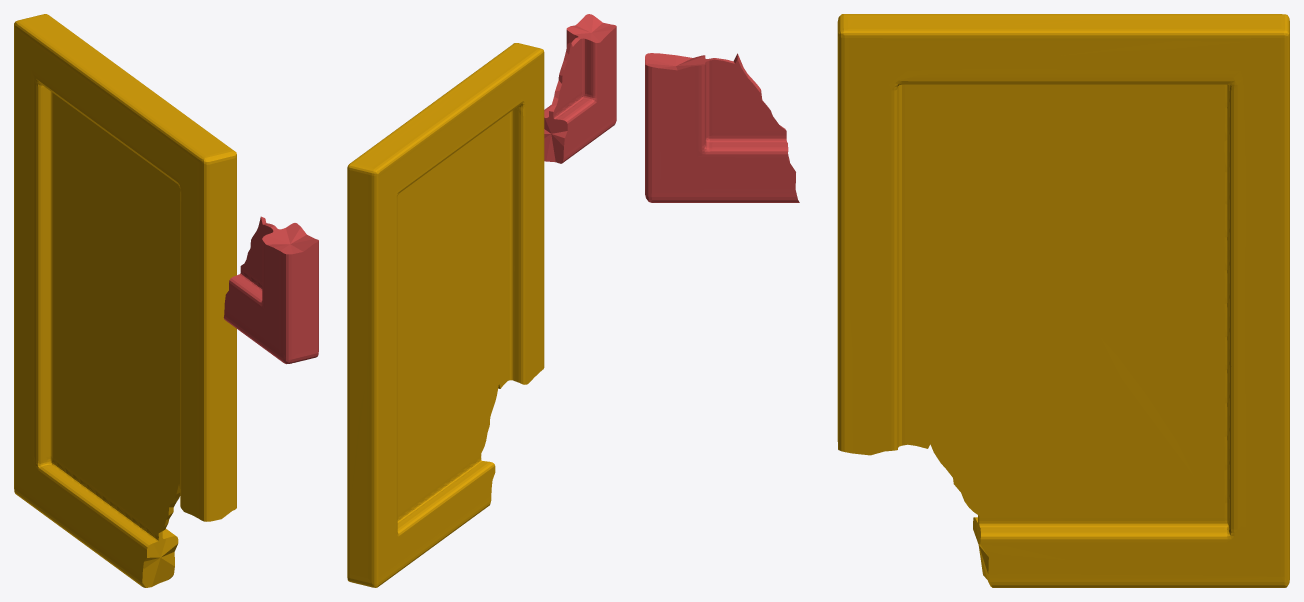
The model's file is fractured_37_2pcs_transformed.glb.
3 renders of one model, left to right at view 1: azimuth 30°, elevation 25°; view 2: azimuth 150°, elevation 25°; view 3: azimuth 270°, elevation 25°, orthographic. The views are drawn at different scales.
Visible parts, largest first — view 1: piece_0.obj, piece_1.obj; view 2: piece_0.obj, piece_1.obj; view 3: piece_0.obj, piece_1.obj.
Part boxes in pixels (x1=…): piece_0.obj: x1=14, y1=14, x2=236, y2=587; piece_1.obj: x1=223, y1=216, x2=318, y2=364; piece_0.obj: x1=347, y1=43, x2=544, y2=587; piece_1.obj: x1=544, y1=14, x2=616, y2=163; piece_0.obj: x1=837, y1=14, x2=1289, y2=587; piece_1.obj: x1=645, y1=53, x2=799, y2=202.
Bounding box in the file's own units: 0.0765 × 1 × 1.05.
